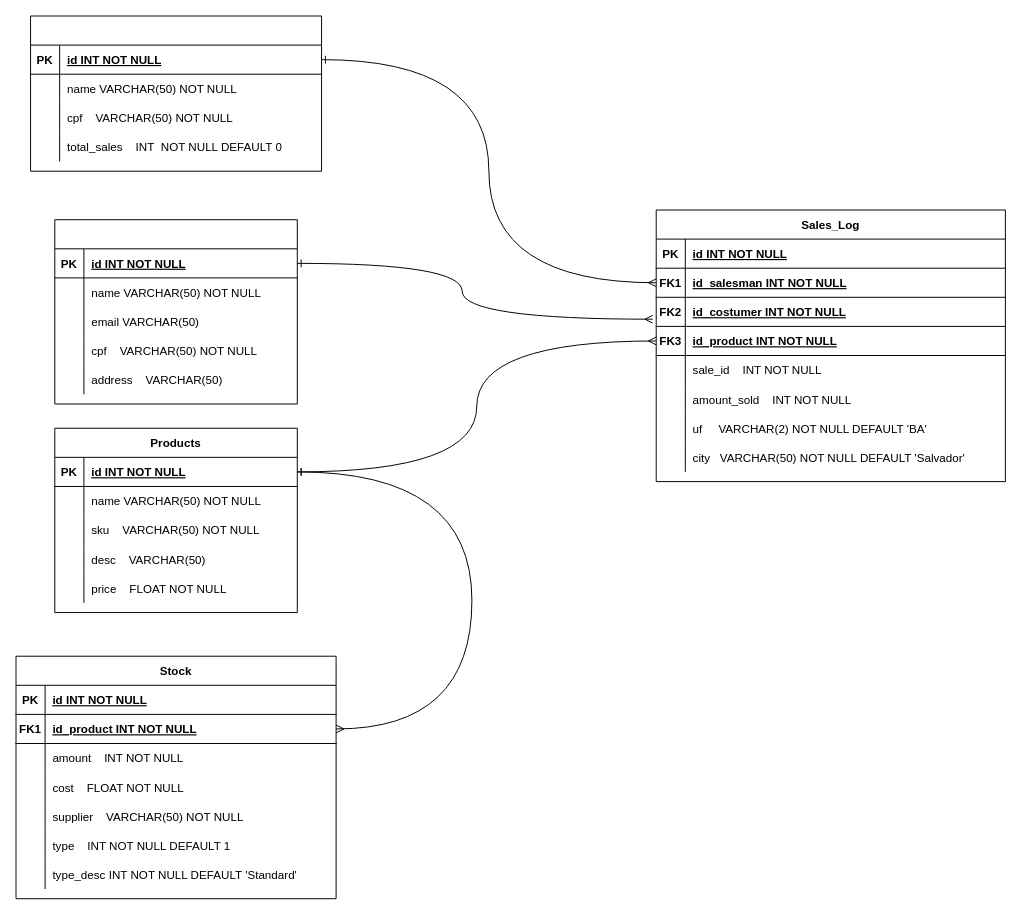
The diagram is 1021 pixels wide and 915 high, and some of its shapes have lost their labels. Here are the shapes that lost their labels. From the top down, the box of each, then its label:
(30, 15, 322, 171): Salesmen
(54, 219, 297, 404): Customers
